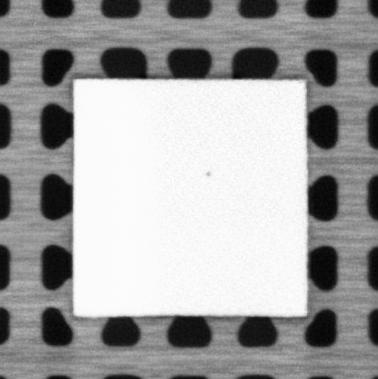DIE_INK: (203, 169, 212, 176)
